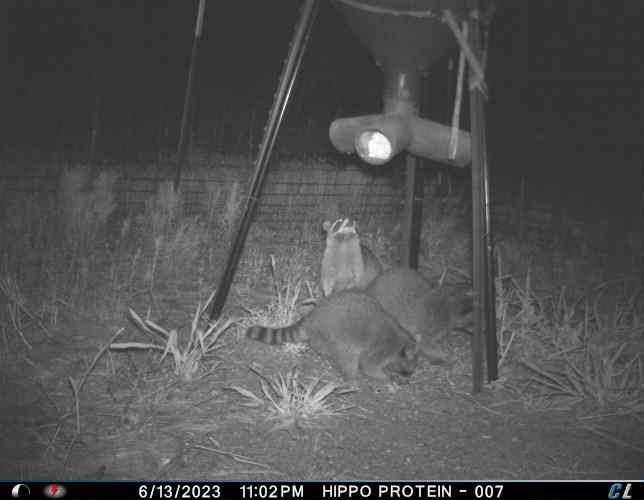Raccoon: (251, 292, 430, 389), (365, 265, 478, 368), (311, 216, 385, 291)
